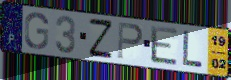3: (55, 15, 77, 55)
E: (149, 24, 179, 68)
G: (23, 12, 51, 51)
L: (182, 29, 205, 69)
P: (117, 20, 145, 61)
Z: (88, 18, 114, 60)
